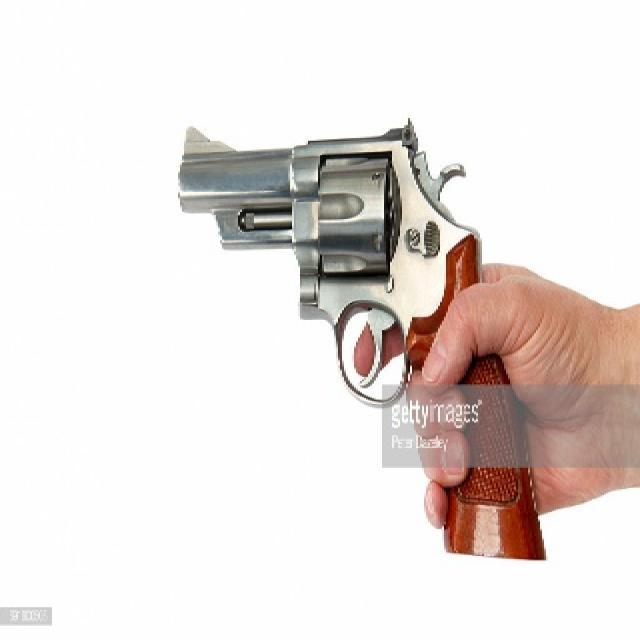weapon: (174, 118, 548, 562)
